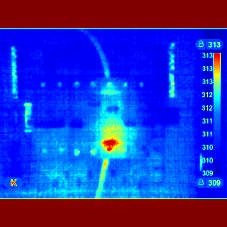High: (90, 118, 141, 160)
